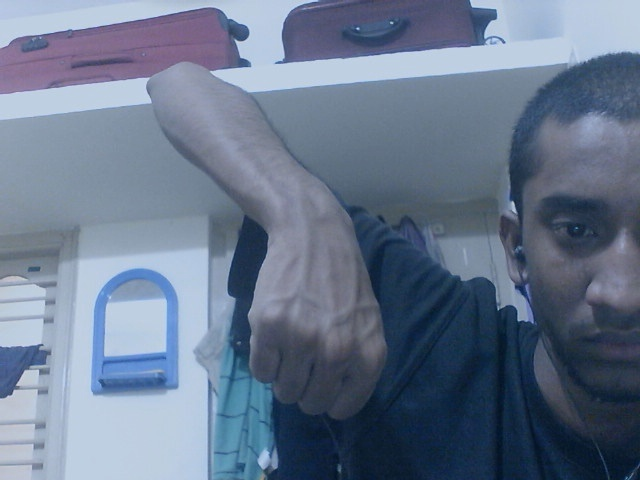hand: (245, 207, 392, 422)
